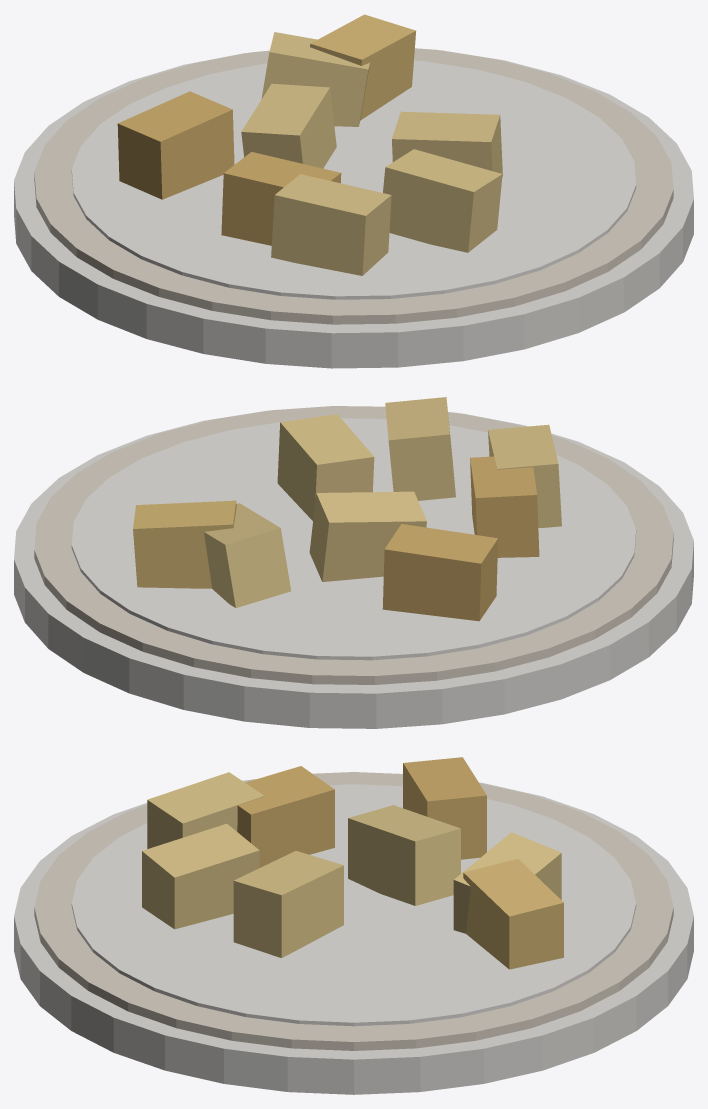
Rendered from khoai_mui_cau.glb.
3 renders of one model, top to bottom at view 1: azimuth 30°, elevation 25°; view 2: azimuth 150°, elevation 25°; view 3: azimuth 270°, elevation 25°, orthographic.
Visible parts, largest first — view 1: obj_0002, obj_0000, obj_0001, obj_0008, obj_0005, obj_0010, obj_0009, obj_0007, obj_0004, obj_0003, obj_0006; view 2: obj_0002, obj_0000, obj_0001, obj_0005, obj_0009, obj_0007, obj_0006, obj_0003, obj_0010, obj_0004, obj_0008; view 3: obj_0002, obj_0000, obj_0001, obj_0006, obj_0009, obj_0010, obj_0007, obj_0004, obj_0005, obj_0008, obj_0003.
Part boxes in pixels (x1,y1,x2,y2): obj_0002: (71,60,636,299); obj_0000: (14,50,693,368); obj_0001: (34,48,673,324); obj_0008: (271,174,391,275); obj_0005: (117,91,234,199); obj_0010: (383,149,502,252); obj_0009: (241,83,336,168); obj_0007: (310,14,415,120); obj_0004: (221,152,341,245); obj_0003: (261,32,369,126); obj_0006: (392,111,502,176); obj_0002: (71,418,636,660); obj_0000: (14,410,693,728); obj_0001: (34,406,673,684); obj_0005: (382,524,498,621); obj_0009: (309,491,426,581); obj_0007: (133,500,236,588); obj_0006: (277,414,374,520); obj_0003: (204,503,291,607); obj_0010: (385,397,455,500); obj_0004: (470,456,539,557); obj_0008: (488,424,561,527); obj_0002: (71,784,636,1026); obj_0000: (14,782,693,1094); obj_0001: (34,772,673,1050); obj_0006: (233,851,343,957); obj_0009: (348,805,460,905); obj_0010: (142,823,259,929); obj_0007: (463,859,563,969); obj_0004: (237,766,334,867); obj_0005: (403,757,486,859); obj_0008: (147,772,264,848); obj_0003: (453,832,561,933).
Size of the model in its own units: 2.1 by 0.3958 by 2.1.
